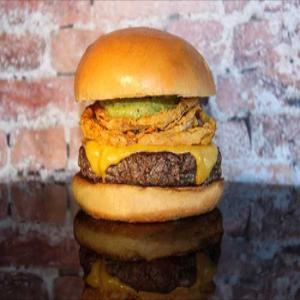cheeseburger_475cal: (46, 22, 247, 223)
